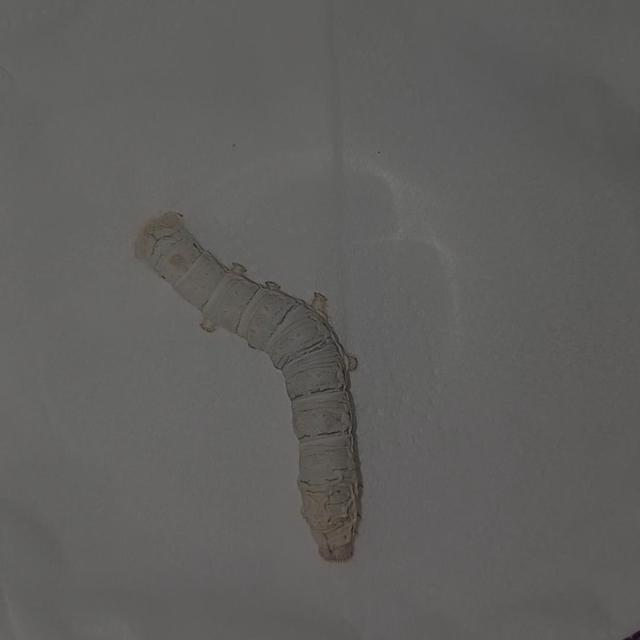Healthy: (116, 183, 433, 572)
